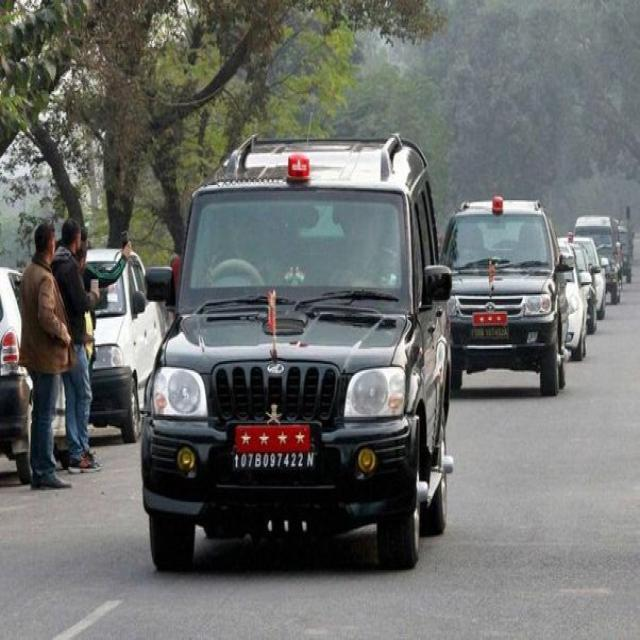military-plate: (229, 448, 322, 470), (468, 323, 515, 341)
